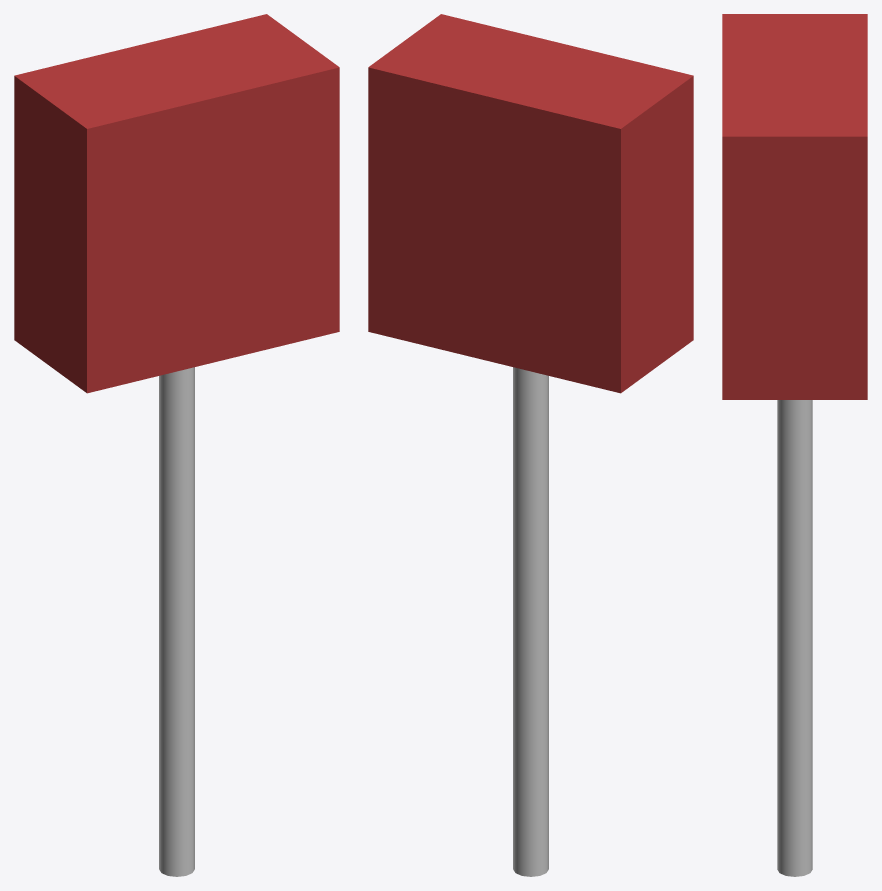
Rendered from 3D_LollyPop_Sqaure_Red.FBX.
3 renders of one model, left to right at view 1: azimuth 30°, elevation 25°; view 2: azimuth 150°, elevation 25°; view 3: azimuth 270°, elevation 25°, orthographic.
Visible parts, largest first — view 1: 3D_LolyPop_Square_Red; view 2: 3D_LolyPop_Square_Red; view 3: 3D_LolyPop_Square_Red.
Part boxes in pixels (left/top/right/bottom): 3D_LolyPop_Square_Red: left=14, top=14, right=339, bottom=876; 3D_LolyPop_Square_Red: left=368, top=14, right=693, bottom=876; 3D_LolyPop_Square_Red: left=722, top=14, right=867, bottom=876.
Bounding box in the file's own units: 20 × 60.36 × 10.
